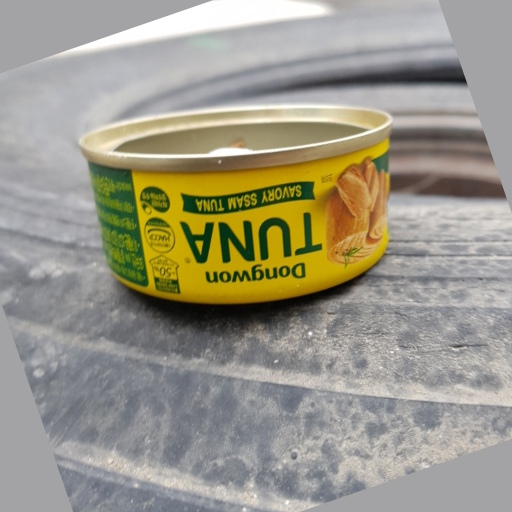Metal_1: (75, 101, 397, 306)
